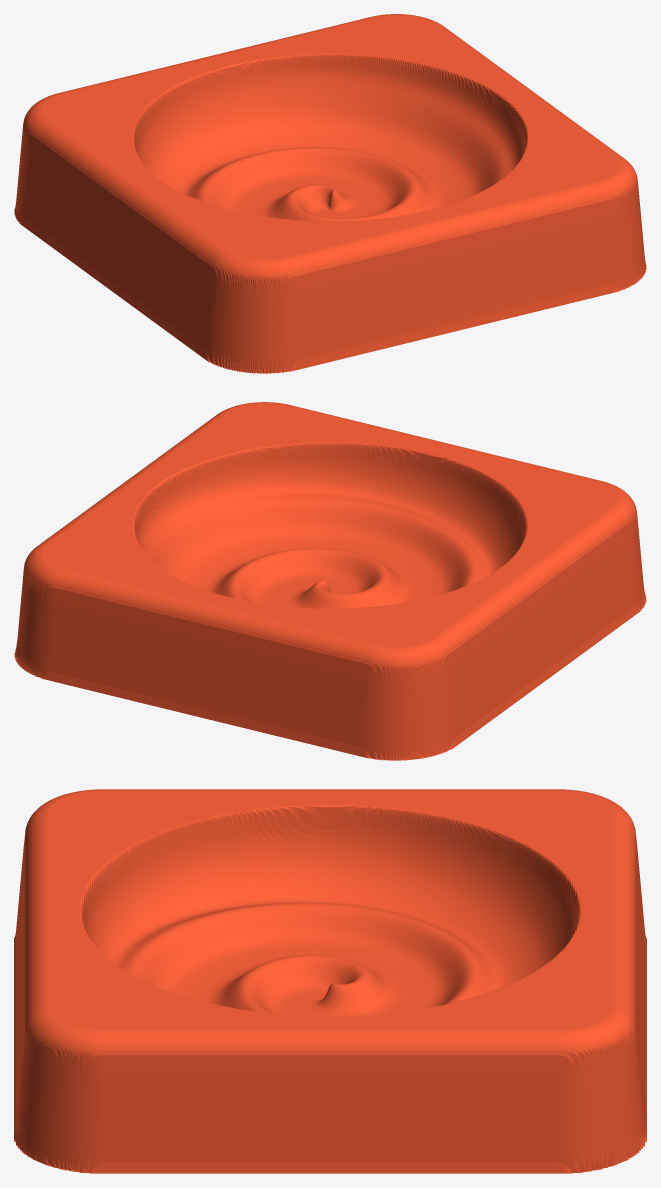
Rendered from mold.glb.
3 renders of one model, top to bottom at view 1: azimuth 30°, elevation 25°; view 2: azimuth 150°, elevation 25°; view 3: azimuth 270°, elevation 25°, orthographic. The views are drawn at different scales.
Parts seen in each view (by area): view 1: geometry_0; view 2: geometry_0; view 3: geometry_0.
Boxes of the visible parts, box(x1,y1,x2,y2) form: geometry_0: box(14, 14, 646, 373); geometry_0: box(14, 402, 646, 760); geometry_0: box(14, 789, 646, 1173).
Size of the model in its own units: 0.065 by 0.0147 by 0.065.
